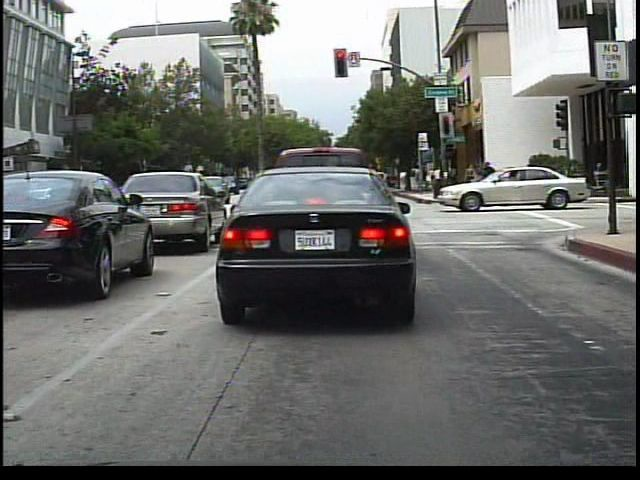person: (472, 157, 499, 204), (462, 159, 481, 199), (480, 158, 497, 196)
